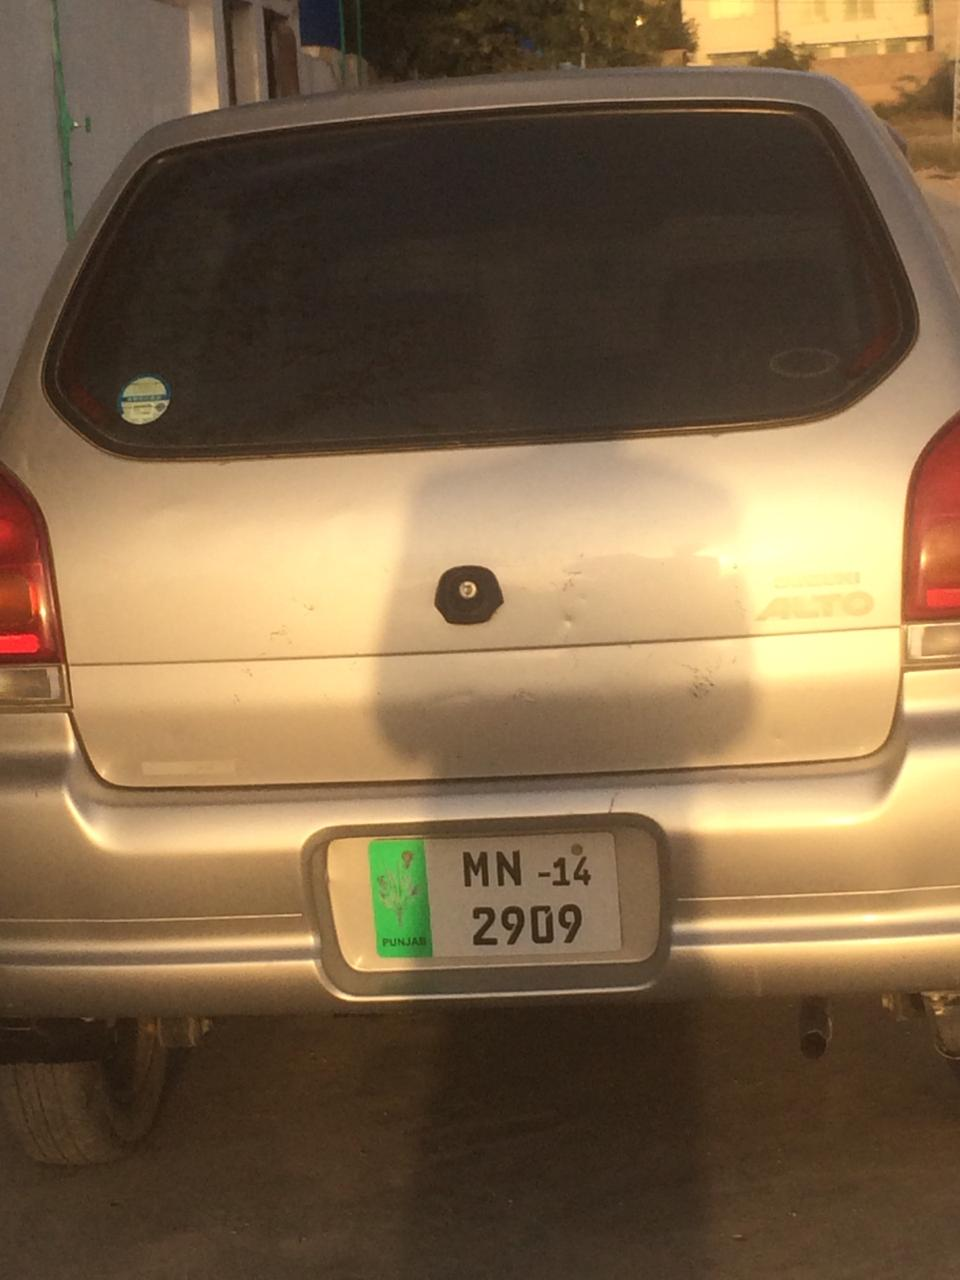license plate: (367, 840, 629, 958)
